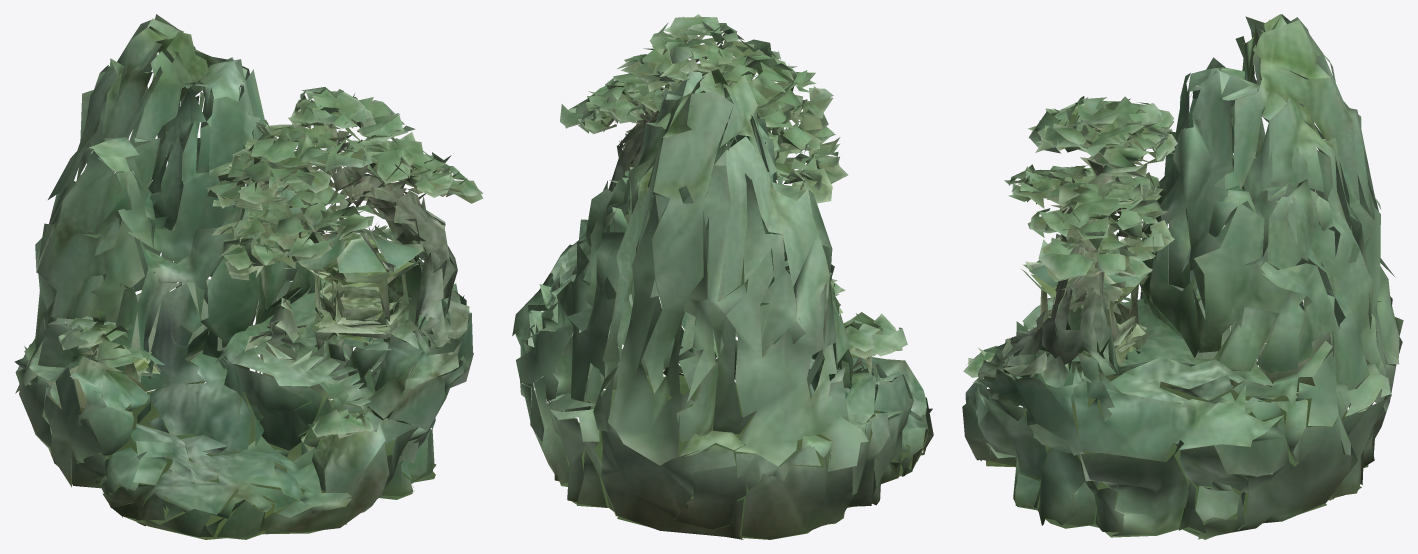
The model's file is B9-jade-mountain.glb.
3 views of the same model, side by side, from view 1: azimuth 30°, elevation 25°; view 2: azimuth 150°, elevation 25°; view 3: azimuth 270°, elevation 25° (orthographic). The views are drawn at different scales.
Parts seen in each view (by area): view 1: Prop_B9; view 2: Prop_B9; view 3: Prop_B9.
Part boxes in pixels (x1=…): Prop_B9: x1=14, y1=14, x2=483, y2=539; Prop_B9: x1=512, y1=14, x2=933, y2=539; Prop_B9: x1=962, y1=14, x2=1403, y2=539.
Bounding box in the file's own units: 0.943 × 1.02 × 0.9514.
Materials: 1 (1 with a texture image).
